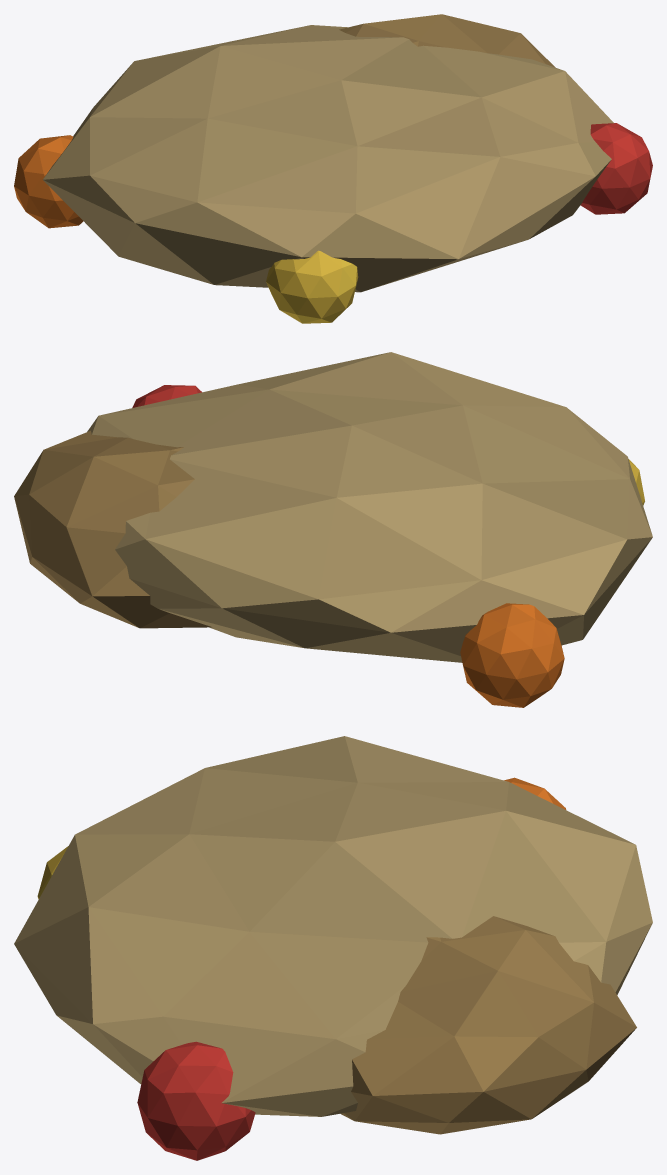
Rendered from Scatter_NetPile.fbx.
3 views of the same model, one above another, from view 1: azimuth 30°, elevation 25°; view 2: azimuth 150°, elevation 25°; view 3: azimuth 270°, elevation 25° (orthographic). The views are drawn at different scales.
Visible parts, largest first — view 1: NetPile; view 2: NetPile; view 3: NetPile.
Part boxes in pixels (x1,y1,x2,y2): NetPile: (14,14,652,323); NetPile: (14,352,652,707); NetPile: (14,736,652,1160).
Bounding box in the file's own units: 6.07 × 1.66 × 5.25.
